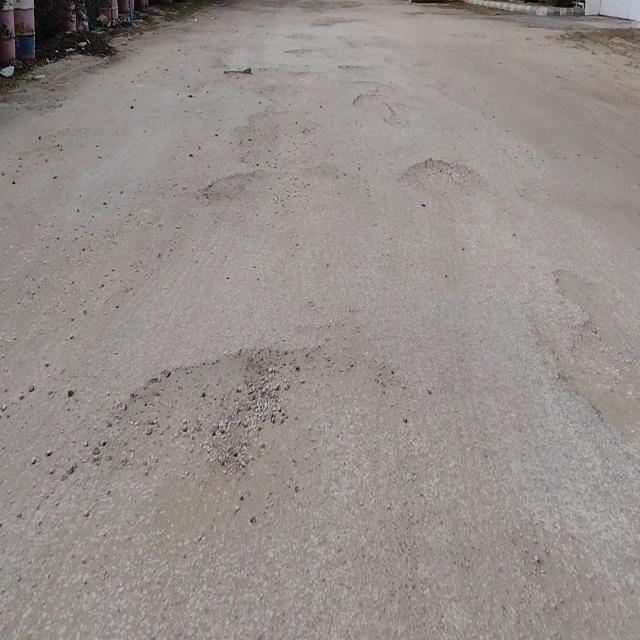Potholes: (403, 153, 484, 203), (353, 90, 398, 123)
